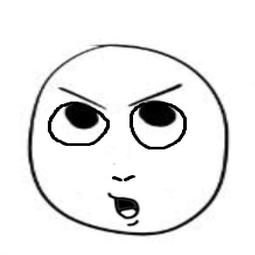eye: (128, 98, 192, 155), (47, 99, 111, 151)
frowning_eyebrow: (58, 80, 113, 114), (126, 79, 186, 107)
nose: (110, 172, 140, 185)
open_mouth: (104, 196, 145, 218)
